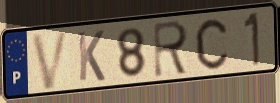1: (242, 11, 261, 69)
8: (114, 26, 149, 79)
C: (194, 17, 230, 72)
K: (76, 29, 107, 83)
R: (152, 18, 190, 79)
V: (29, 28, 72, 92)
